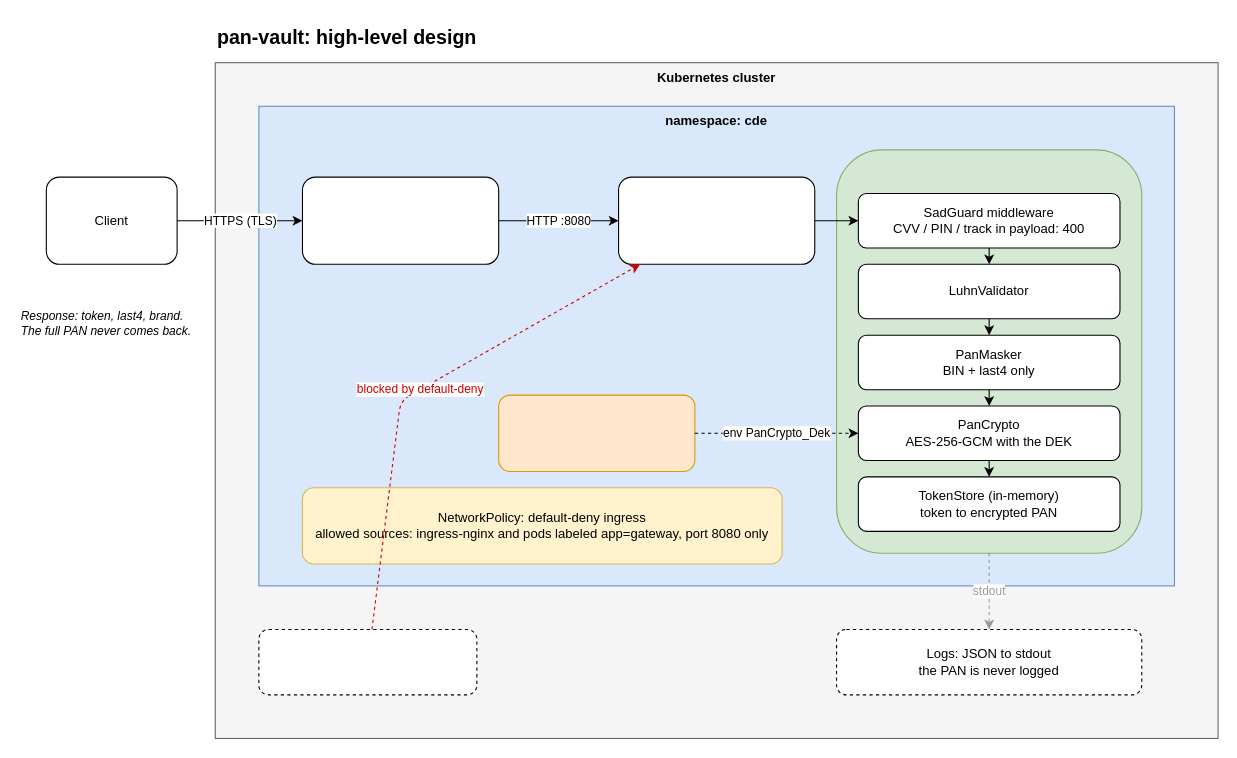
This 1237x758 diagram has some shape labels left out. Here are the shapes that lost their labels. From the top down, the box of each, then its label:
(301, 176, 499, 264): Ingress (nginx) TLS termination HTTP 308 redirect to HTTPS
(617, 176, 815, 264): Service pan-vault ClusterIP :8080
(835, 149, 1142, 553): Pod: pan-vault (.NET 10 API)
(498, 394, 695, 471): Secret: pan-vault-dek DEK, never in git
(258, 628, 477, 695): Pod in another namespace
